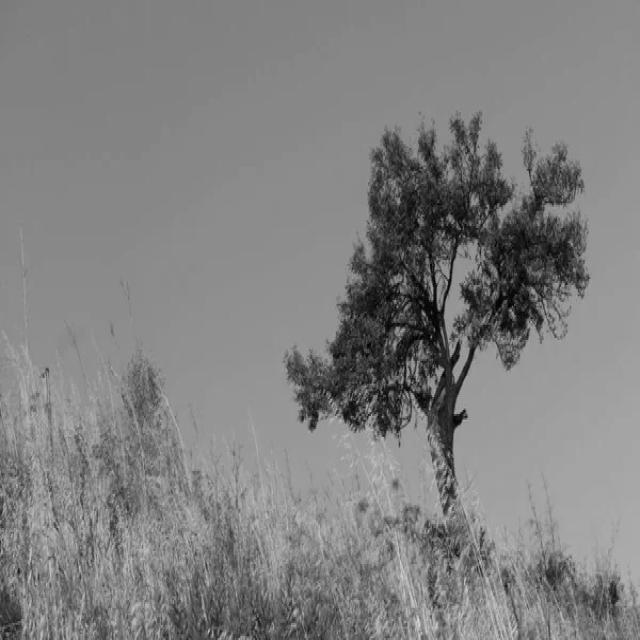Tree: (287, 114, 590, 564)
